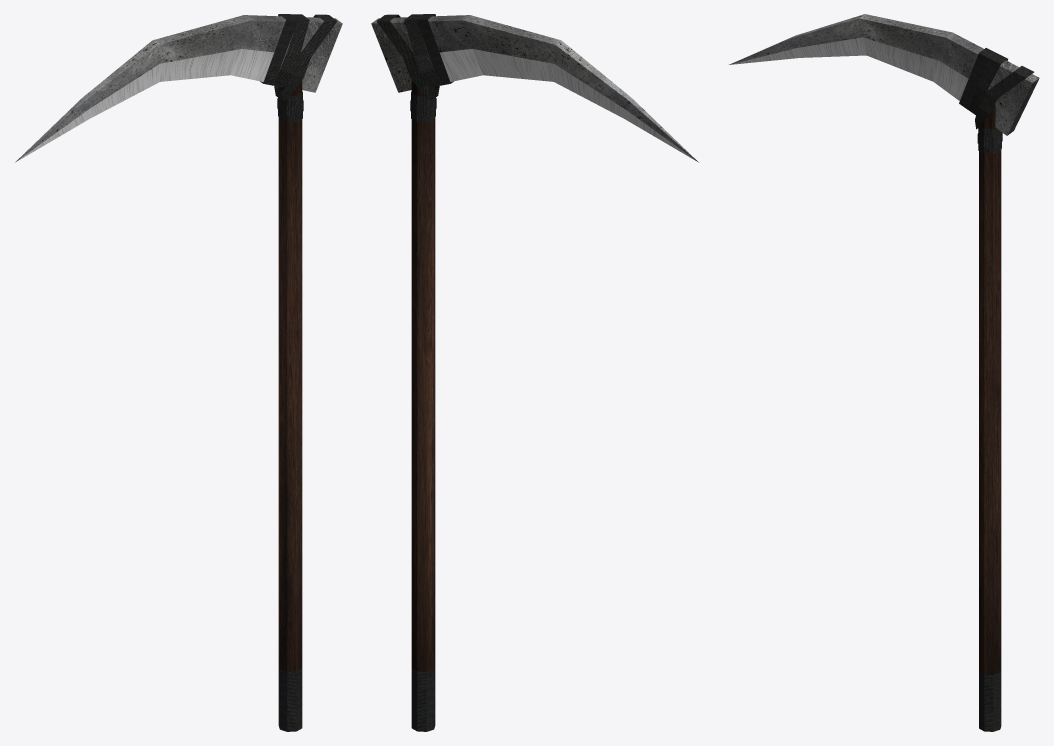
File: Scythe.fbx
3 renders of one model, left to right at view 1: azimuth 30°, elevation 25°; view 2: azimuth 150°, elevation 25°; view 3: azimuth 330°, elevation 25°, orthographic. The views are drawn at different scales.
Visible parts, largest first — view 1: scythe; view 2: scythe; view 3: scythe.
Part boxes in pixels (box(x1,y1,x2,y2)): scythe: box(15, 14, 342, 731); scythe: box(371, 14, 698, 731); scythe: box(729, 14, 1039, 731).
Bounding box in the file's own units: 74.01 × 5.43 × 157.
4 materials, 4 textured.
